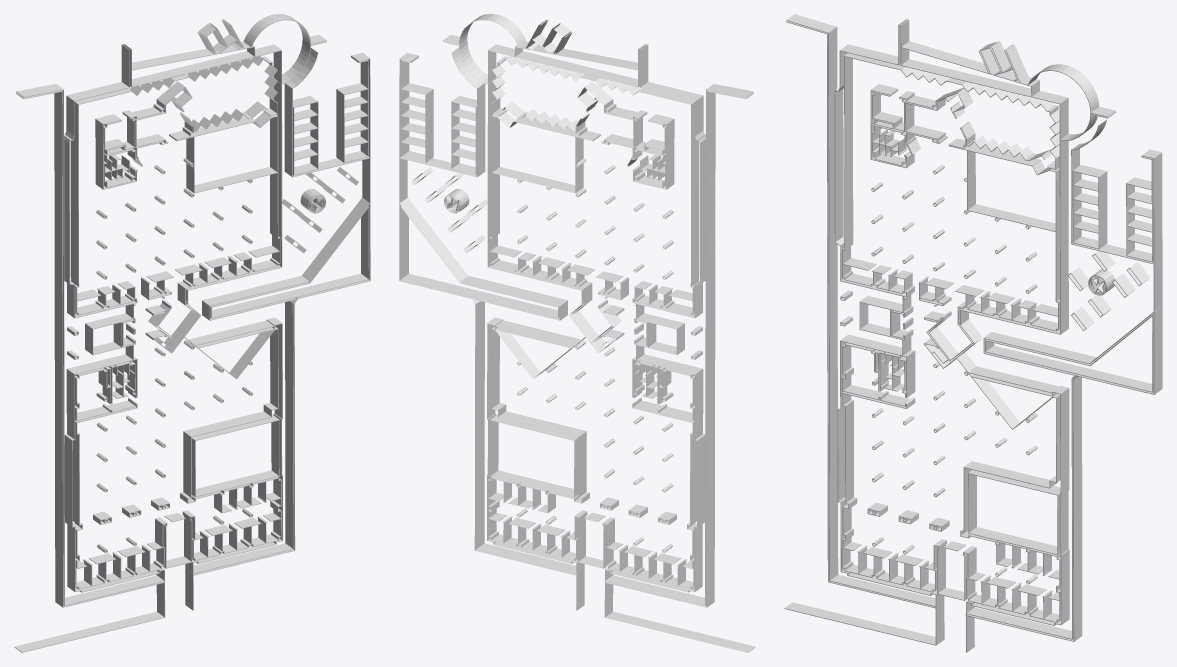
Rendered from wall_1.obj.
3 views of the same model, side by side, from view 1: azimuth 30°, elevation 25°; view 2: azimuth 150°, elevation 25°; view 3: azimuth 330°, elevation 25° (orthographic). The views are drawn at different scales.
Visible parts, largest first — view 1: walls; view 2: walls; view 3: walls.
Boxes of the visible parts, box(x1,y1,x2,y2) form: walls: box(14, 14, 370, 652); walls: box(399, 14, 755, 652); walls: box(784, 14, 1162, 652).
Size of the model in its own units: 64.59 by 102 by 2.5.
